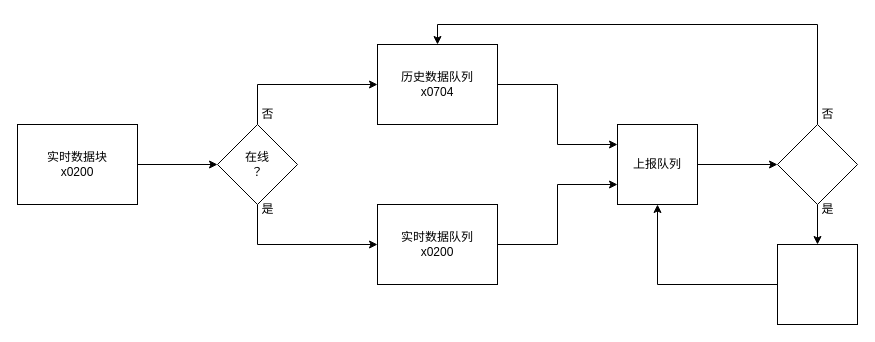
Image size: 875x342. Some labels were removed from this diagram. Each missing label, with the centre of its shape:
"出队" goes at pixel 817 284.
"收到应答 ？" goes at pixel 817 164.
